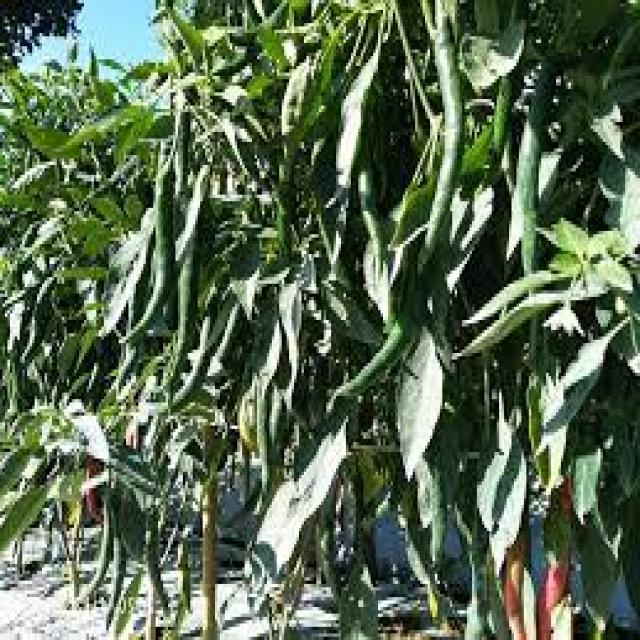sehat: (388, 333, 444, 471), (468, 425, 524, 553)
